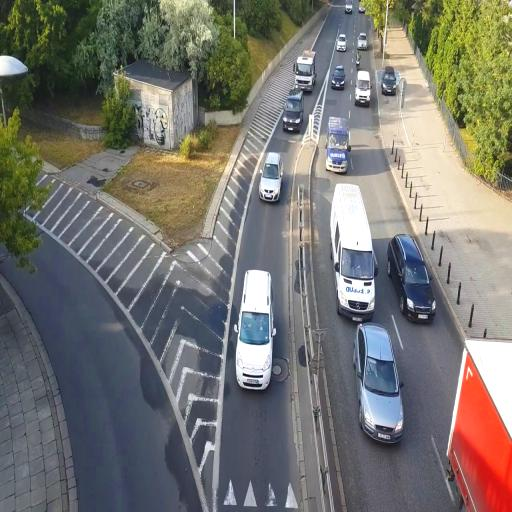vehicle: (445, 340, 512, 510), (330, 181, 378, 322), (354, 322, 404, 446), (386, 233, 436, 325), (235, 270, 273, 391), (325, 116, 350, 175), (258, 152, 282, 204), (282, 88, 304, 132), (354, 69, 372, 105), (380, 68, 399, 95), (330, 64, 347, 90), (336, 33, 348, 52)
